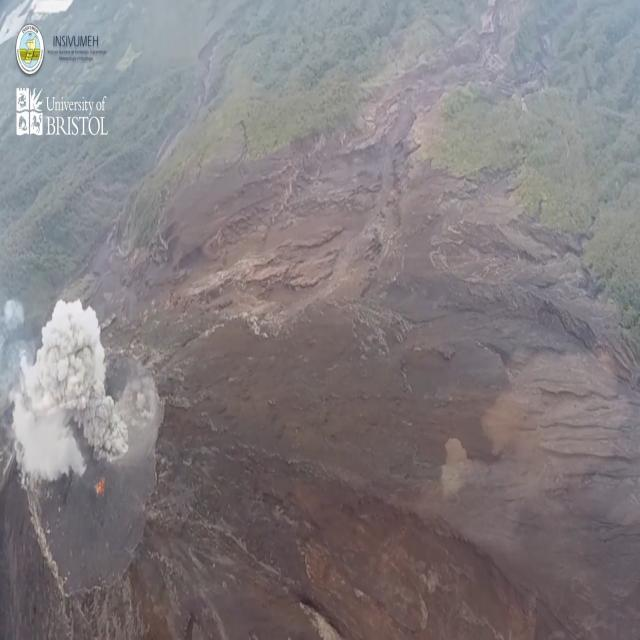Plume: (12, 281, 127, 479)
Summit: (10, 330, 189, 614)
